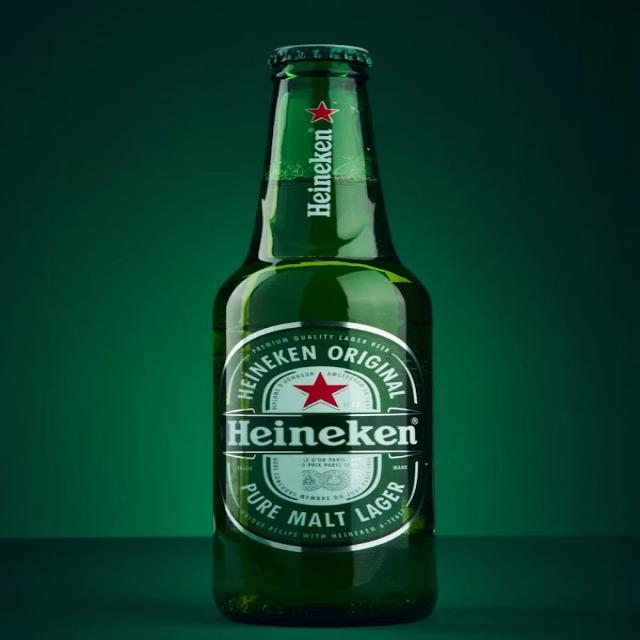Bottle: (214, 45, 436, 625)
